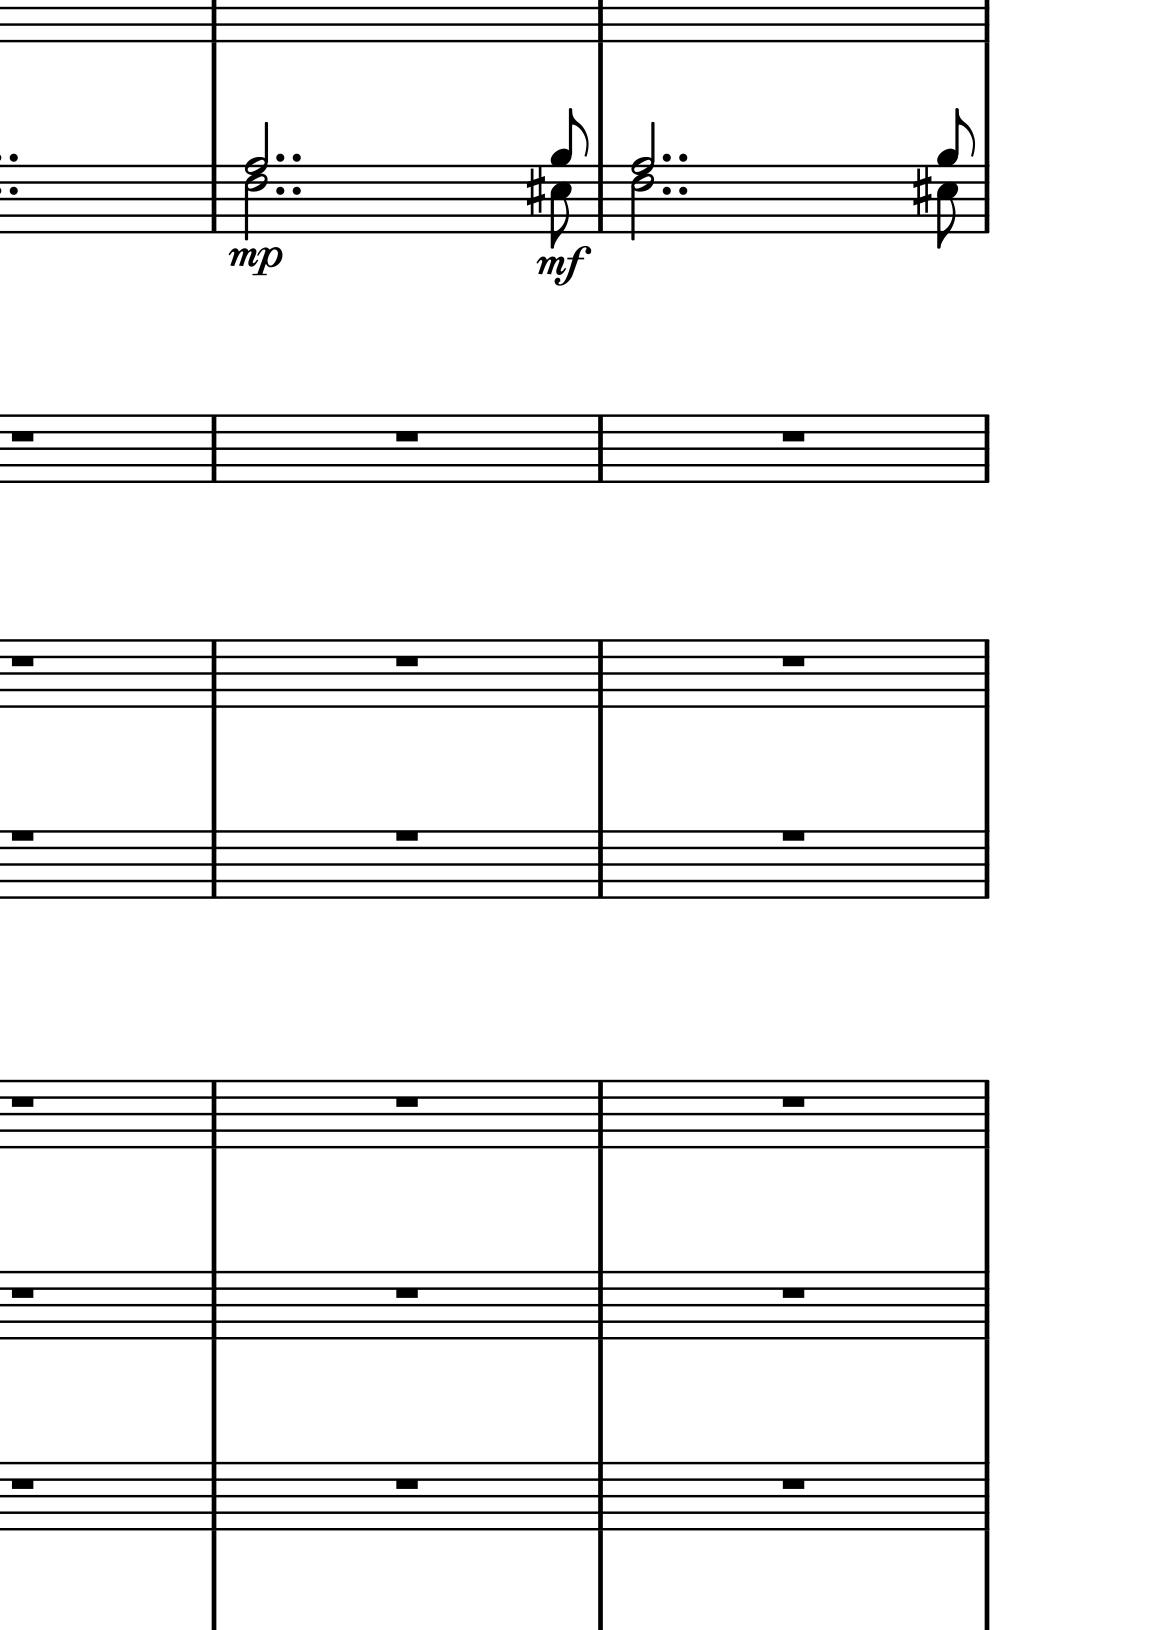2_6_9: (630, 121, 657, 244), (244, 121, 271, 244)
8_5_9: (936, 108, 977, 247), (549, 108, 590, 245)
Double_dot: (660, 151, 688, 164), (274, 151, 302, 164), (661, 183, 687, 197), (276, 184, 302, 197)
Rests1: (6, 651, 37, 670), (6, 825, 37, 845), (777, 825, 808, 845), (6, 1092, 37, 1112), (6, 1474, 37, 1494), (777, 1474, 809, 1493), (391, 825, 421, 845), (391, 1092, 421, 1112), (778, 1092, 808, 1112), (6, 426, 37, 445), (778, 652, 809, 670), (6, 1284, 37, 1302), (778, 1284, 809, 1302), (390, 1474, 421, 1493), (391, 652, 421, 670), (391, 1284, 421, 1302), (778, 427, 809, 445), (391, 427, 421, 445)
Sharp: (911, 163, 933, 219), (525, 164, 546, 218)
Single_barline: (202, 1272, 224, 1338), (588, 1272, 611, 1338), (202, 1464, 224, 1530), (588, 1464, 611, 1530), (203, 416, 224, 484), (203, 1080, 224, 1148), (590, 1080, 611, 1148), (203, 641, 224, 707), (203, 832, 224, 898), (588, 832, 610, 898), (975, 1272, 996, 1338), (204, 164, 224, 233), (590, 416, 610, 484), (976, 1463, 996, 1530), (976, 641, 996, 707), (590, 641, 610, 707), (975, 832, 995, 898), (976, 415, 995, 484), (976, 166, 995, 233), (976, 1080, 995, 1148), (591, 164, 608, 232)
dot: (6, 183, 20, 197), (6, 152, 19, 164)
mf: (534, 245, 590, 288)
mp: (224, 242, 284, 282)
